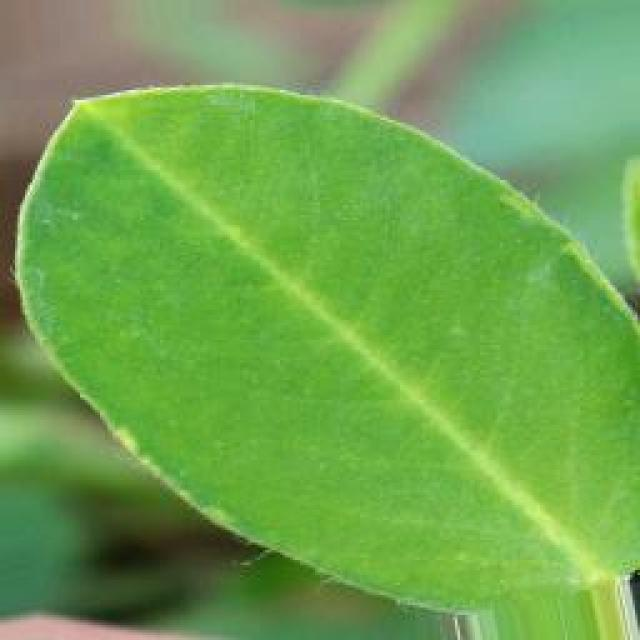Yellow_and_black_sigatoka: (12, 73, 640, 614)
